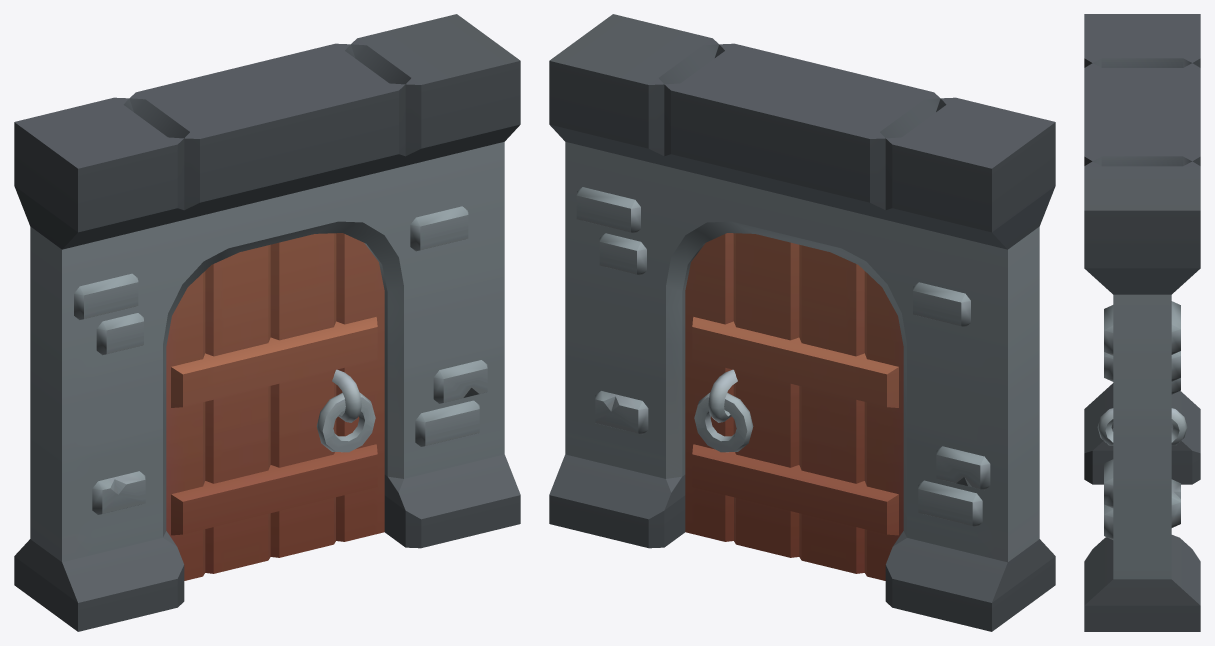
Rendered from wall_doorway.glb.
3 views of the same model, side by side, from view 1: azimuth 30°, elevation 25°; view 2: azimuth 150°, elevation 25°; view 3: azimuth 270°, elevation 25° (orthographic). The views are drawn at different scales.
Visible parts, largest first — view 1: wall_doorway, wall_doorway_door; view 2: wall_doorway, wall_doorway_door; view 3: wall_doorway, wall_doorway_door.
Boxes of the visible parts, x1,y1,x2,y2 form: wall_doorway: (14,14,520,631); wall_doorway_door: (166,233,384,580); wall_doorway: (549,14,1055,631); wall_doorway_door: (685,233,903,580); wall_doorway: (1084,14,1200,631); wall_doorway_door: (1097,408,1187,445).
Bounding box in the file's own units: 4 × 4 × 1.
Materials: 1 (1 with a texture image).
